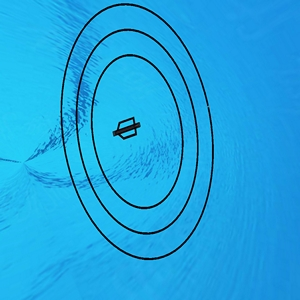circle: (55, 3, 227, 265)
submarine: (114, 118, 143, 142)
